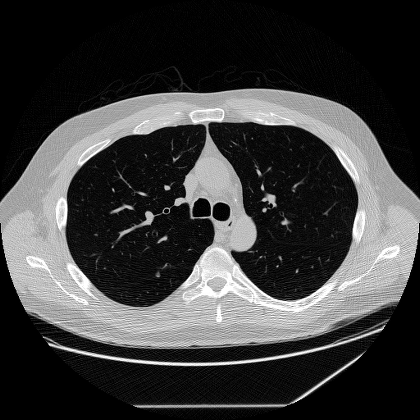nodule: (155, 272, 159, 276)
